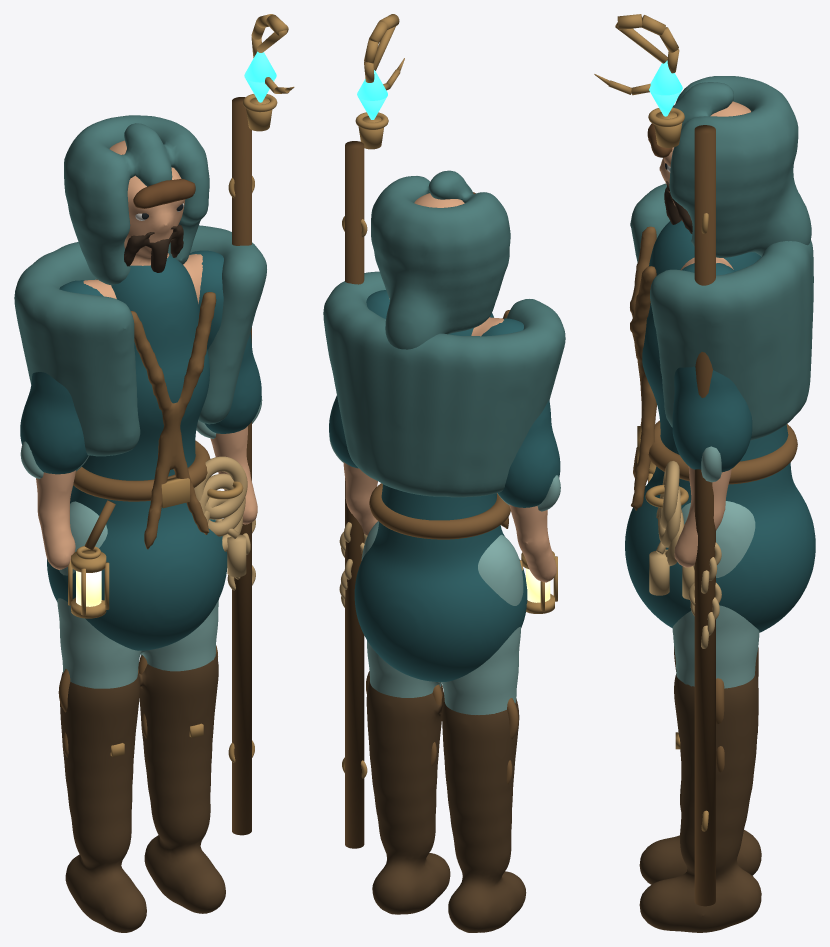
The model's file is 3D模型 char_fisher.glb.
3 renders of one model, left to right at view 1: azimuth 30°, elevation 25°; view 2: azimuth 150°, elevation 25°; view 3: azimuth 270°, elevation 25°, orthographic. The views are drawn at different scales.
Parts seen in each view (by area): view 1: char_fisher_boots.001, char_fisher_tunic.001, char_fisher_cape.001, char_fisher_hood.001, char_fisher_sleeves.001, char_fisher_staffpole, char_fisher_pants.001, char_fisher_body, char_fisher_straps.001, char_fisher_belt, char_fisher_ropecoil0, char_fisher_beard.001 (+6 smaller); view 2: char_fisher_cape.001, char_fisher_boots.001, char_fisher_tunic.001, char_fisher_hood.001, char_fisher_staffpole, char_fisher_pants.001, char_fisher_sleeves.001, char_fisher_body, char_fisher_belt, char_fisher_crystal_hi, char_fisher_staffcollar, char_fisher_lant_glass; view 3: char_fisher_cape.001, char_fisher_tunic.001, char_fisher_hood.001, char_fisher_boots.001, char_fisher_staffpole, char_fisher_sleeves.001, char_fisher_pants.001, char_fisher_straps.001, char_fisher_body, char_fisher_belt, char_fisher_ropecoil0, char_fisher_float0 (+6 smaller).
Part boxes in pixels (x1,y1,x2,y2): char_fisher_boots.001: [60, 653, 225, 932]; char_fisher_tunic.001: [47, 255, 227, 650]; char_fisher_cape.001: [14, 225, 266, 456]; char_fisher_hood.001: [64, 115, 209, 285]; char_fisher_sleeves.001: [20, 250, 261, 474]; char_fisher_staffpole: [232, 97, 251, 835]; char_fisher_pants.001: [57, 501, 218, 688]; char_fisher_body: [36, 140, 257, 569]; char_fisher_straps.001: [131, 292, 216, 549]; char_fisher_belt: [73, 440, 210, 501]; char_fisher_ropecoil0: [194, 456, 247, 519]; char_fisher_beard.001: [124, 224, 183, 272]; char_fisher_cape.001: [323, 271, 565, 497]; char_fisher_boots.001: [366, 681, 526, 932]; char_fisher_tunic.001: [354, 313, 527, 681]; char_fisher_hood.001: [371, 170, 510, 349]; char_fisher_staffpole: [345, 141, 364, 848]; char_fisher_pants.001: [361, 521, 523, 714]; char_fisher_sleeves.001: [329, 290, 560, 507]; char_fisher_body: [343, 193, 556, 582]; char_fisher_belt: [369, 483, 510, 539]; char_fisher_crystal_hi: [357, 70, 387, 100]; char_fisher_staffcollar: [358, 116, 383, 149]; char_fisher_lant_glass: [526, 568, 550, 602]; char_fisher_cape.001: [630, 183, 813, 440]; char_fisher_tunic.001: [625, 220, 815, 632]; char_fisher_hood.001: [669, 76, 811, 257]; char_fisher_boots.001: [639, 646, 761, 932]; char_fisher_staffpole: [694, 125, 715, 906]; char_fisher_sleeves.001: [672, 263, 752, 472]; char_fisher_pants.001: [672, 501, 759, 688]; char_fisher_straps.001: [630, 226, 656, 510]; char_fisher_body: [659, 101, 750, 567]; char_fisher_belt: [648, 420, 797, 484]; char_fisher_ropecoil0: [659, 461, 679, 528]; char_fisher_float0: [649, 551, 669, 595].
Bounding box in the file's own units: 0.5756 × 2.06 × 0.4366.
